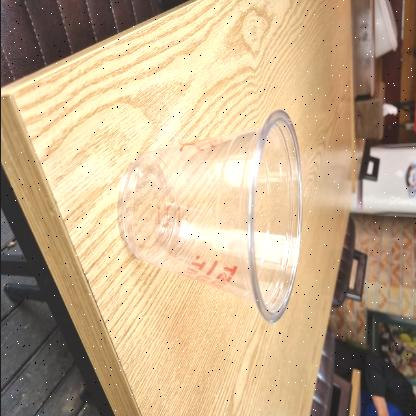Others: (110, 102, 308, 333)
